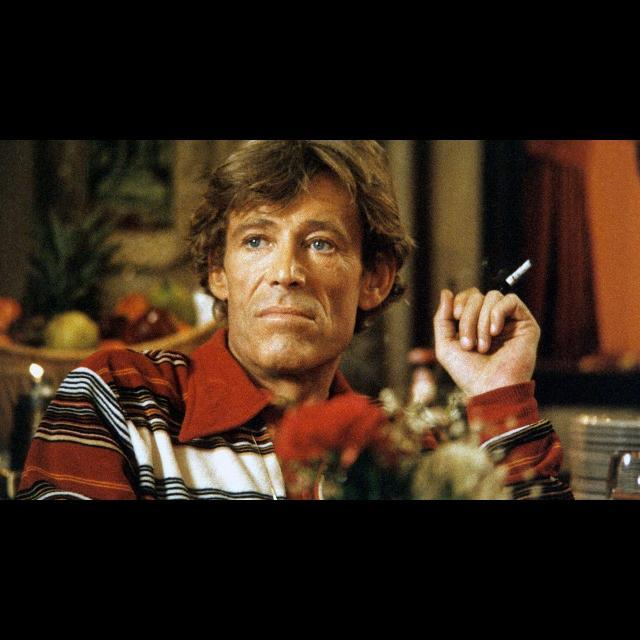rokok: (502, 254, 540, 288)
